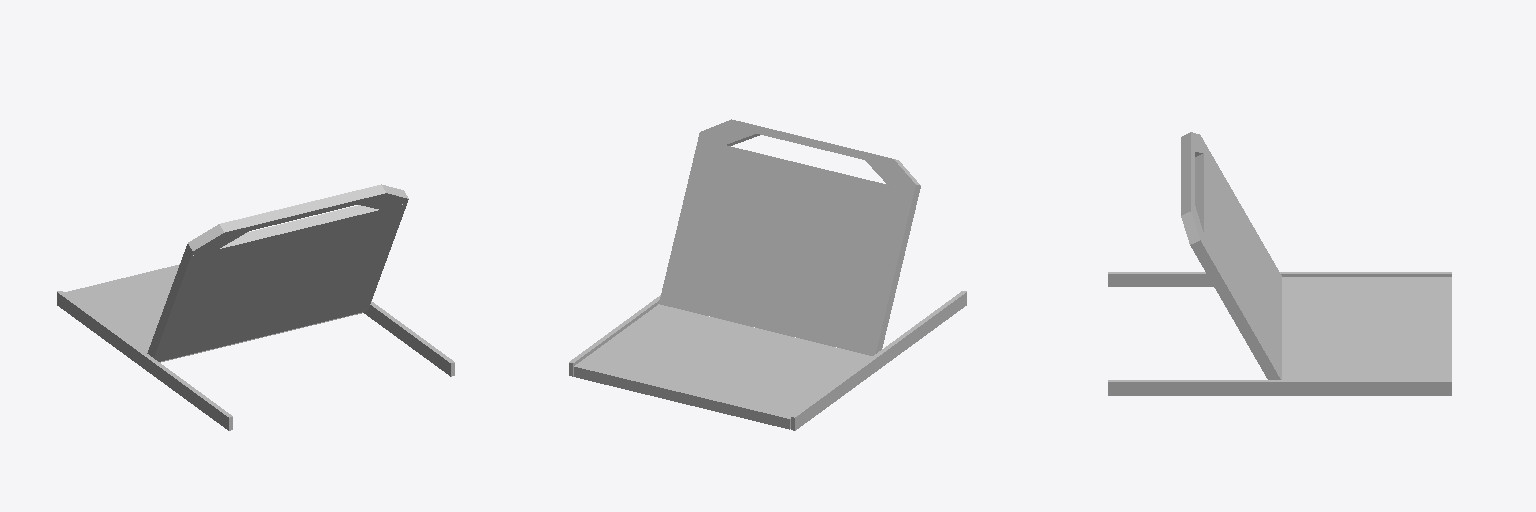
The model's file is lcdkvm_open.obj.
3 renders of one model, left to right at view 1: azimuth 30°, elevation 25°; view 2: azimuth 150°, elevation 25°; view 3: azimuth 270°, elevation 25°, orthographic.
Visible parts, largest first — view 1: Base_Cube.003; view 2: Base_Cube.003; view 3: Base_Cube.003.
Boxes of the visible parts, <box> form: Base_Cube.003: <box>57,184,454,430</box>; Base_Cube.003: <box>569,119,966,430</box>; Base_Cube.003: <box>1108,132,1451,395</box>.
Size of the model in its own units: 0.5684 by 0.4042 by 0.7484.